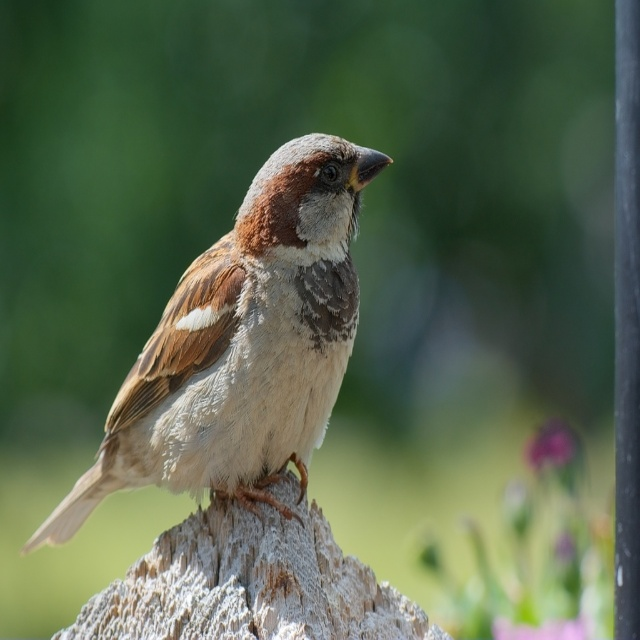Sparrow: (15, 128, 396, 559)
